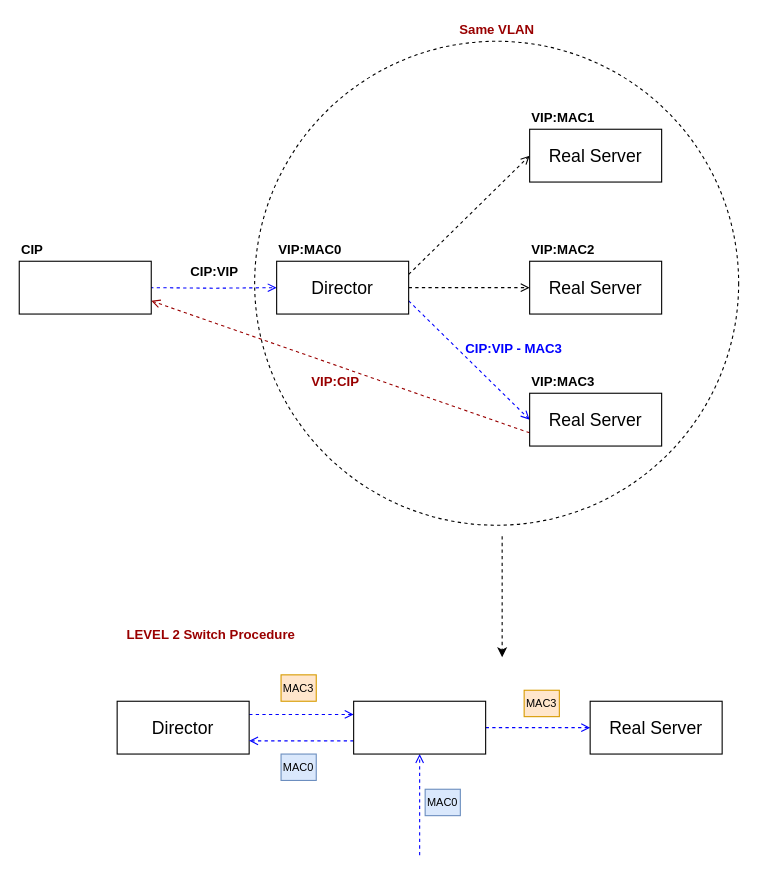
Some shapes in this 758 by 883 pixel diagram are drawn without their labels. Here are the shapes that lost their labels. From the top down, the centre of each, then its label:
the point at 84,287: Client
the point at 419,727: Switch
